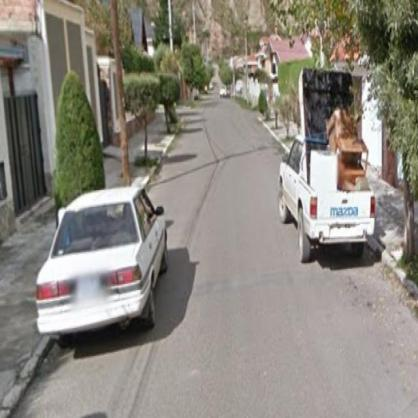car: (34, 184, 171, 356), (277, 131, 376, 266)
